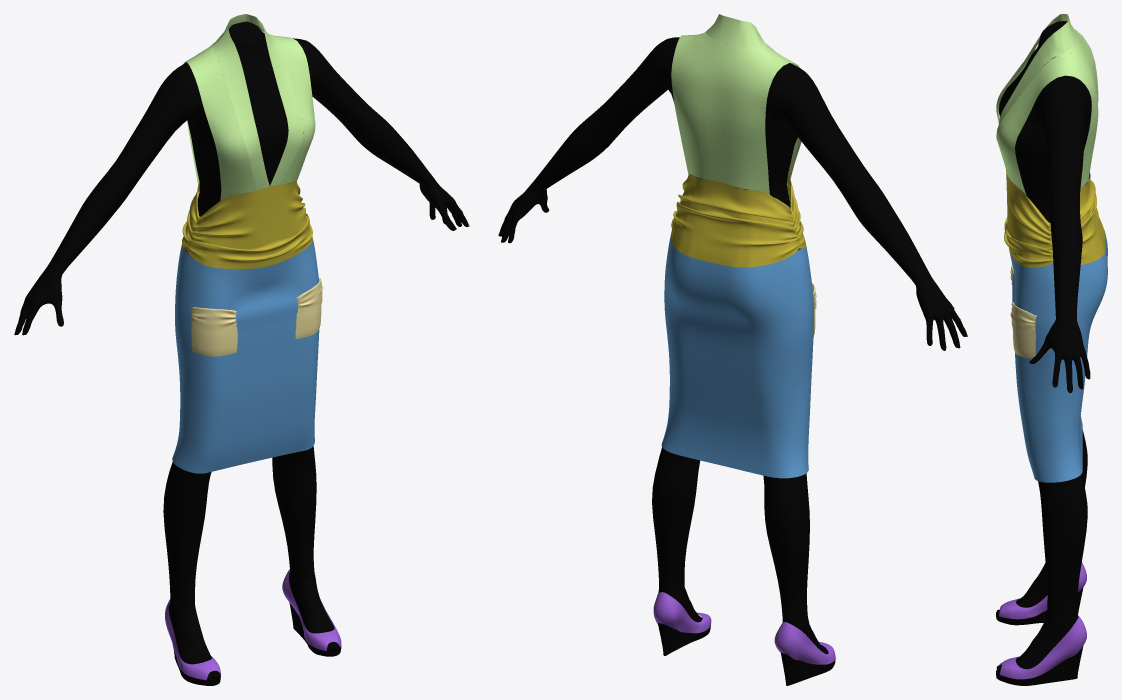
The model's file is officedress5.glb.
The picture shows the model from 3 angles, left to right: view 1: azimuth 30°, elevation 25°; view 2: azimuth 150°, elevation 25°; view 3: azimuth 270°, elevation 25°; orthographic projection. The views are drawn at different scales.
Parts seen in each view (by area): view 1: Dress Silver; view 2: Dress Silver; view 3: Dress Silver.
Part boxes in pixels (box(x1,y1,x2,y2)): Dress Silver: box(14, 14, 469, 685); Dress Silver: box(498, 14, 967, 685); Dress Silver: box(996, 14, 1107, 685).
Bounding box in the file's own units: 1.48 × 1.99 × 0.3201.
Materials: 7 (1 with a texture image).
